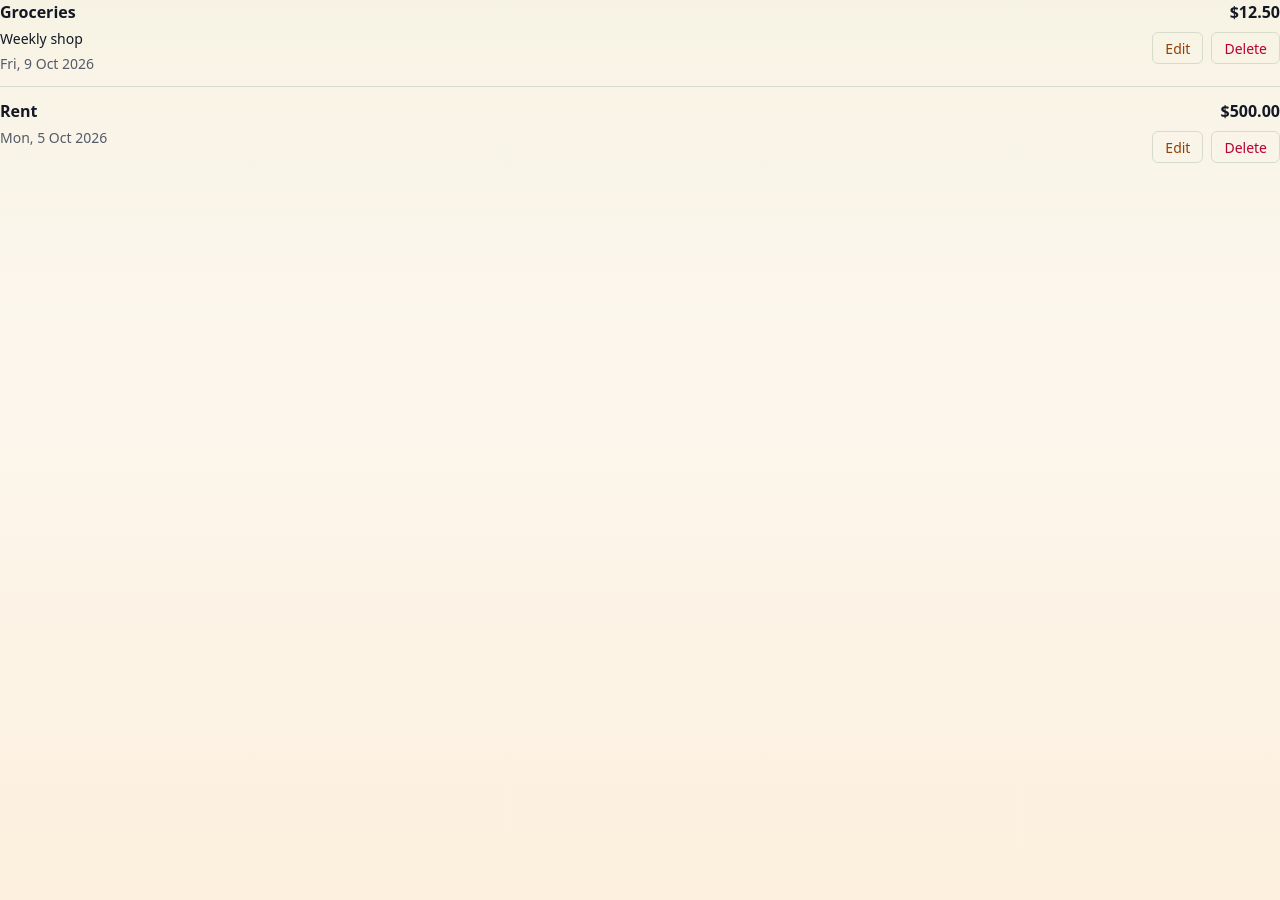
editing a transaction › re-sorts the list when the date changes
Click the button with aria-label "Edit Rent": x=1178, y=147 left=1152, top=131, right=1204, bottom=163
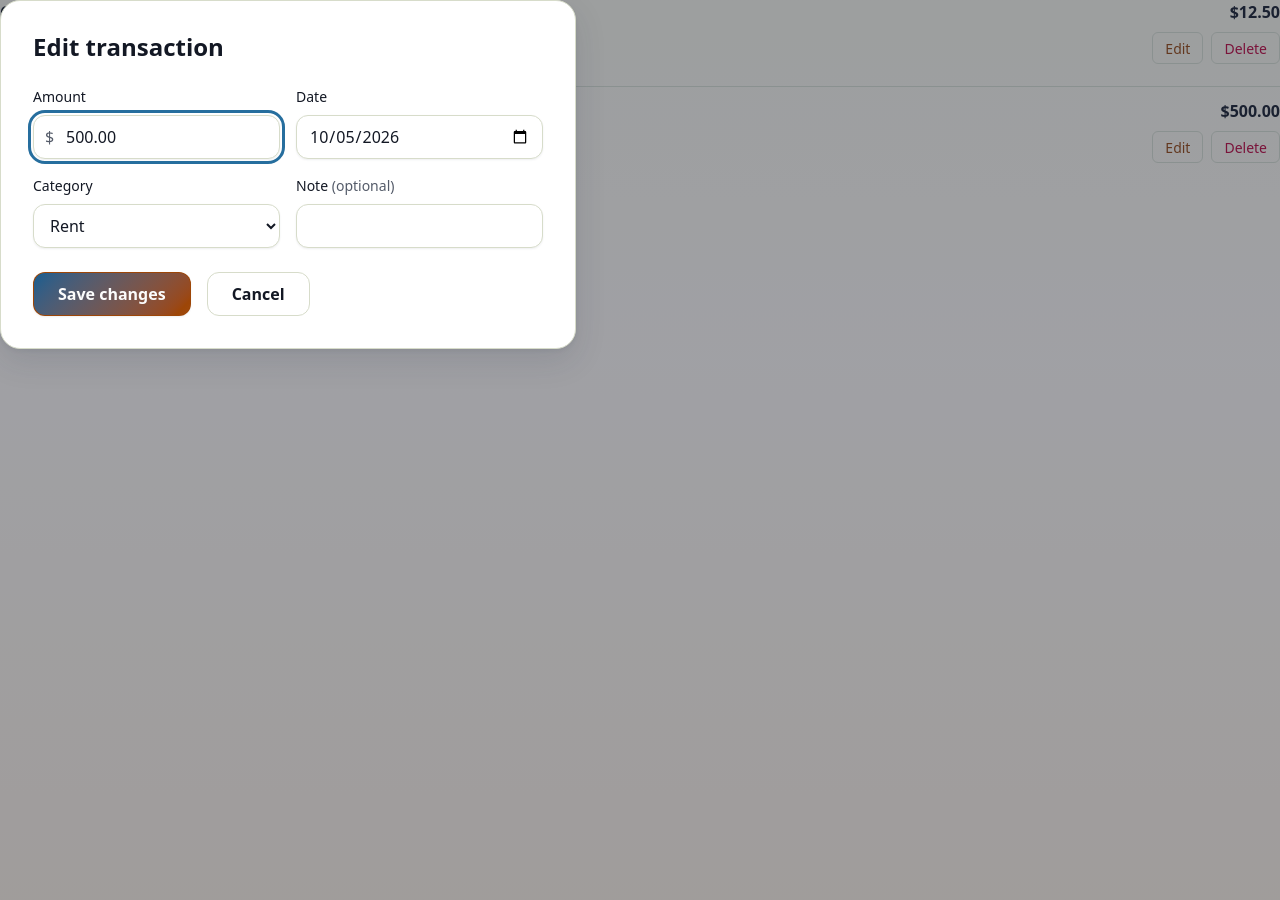
In the date field labelled "Date": x=420, y=137 left=296, top=115, right=543, bottom=159, type "2026-10-20"
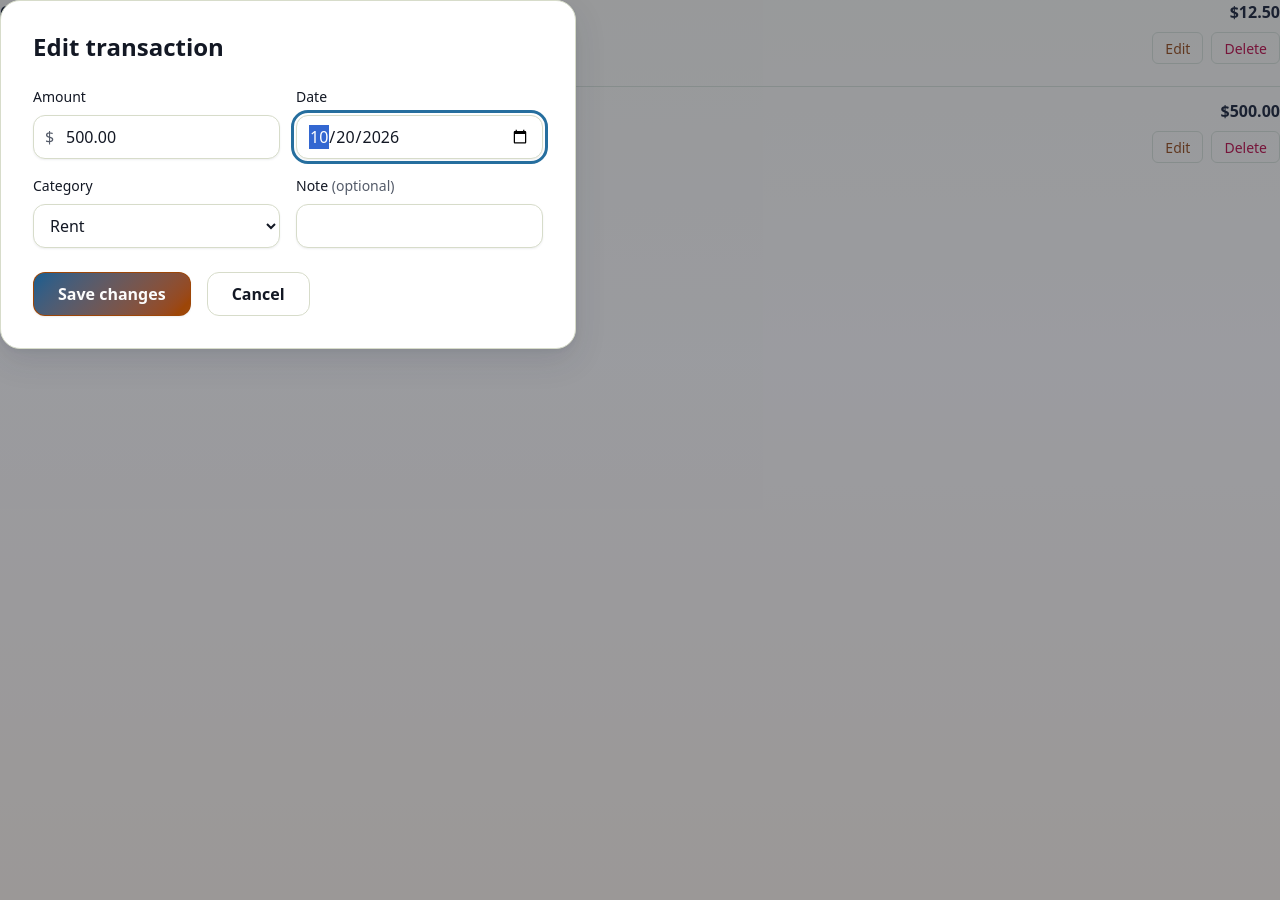
Click the button "Save changes": x=112, y=294 left=33, top=272, right=191, bottom=316
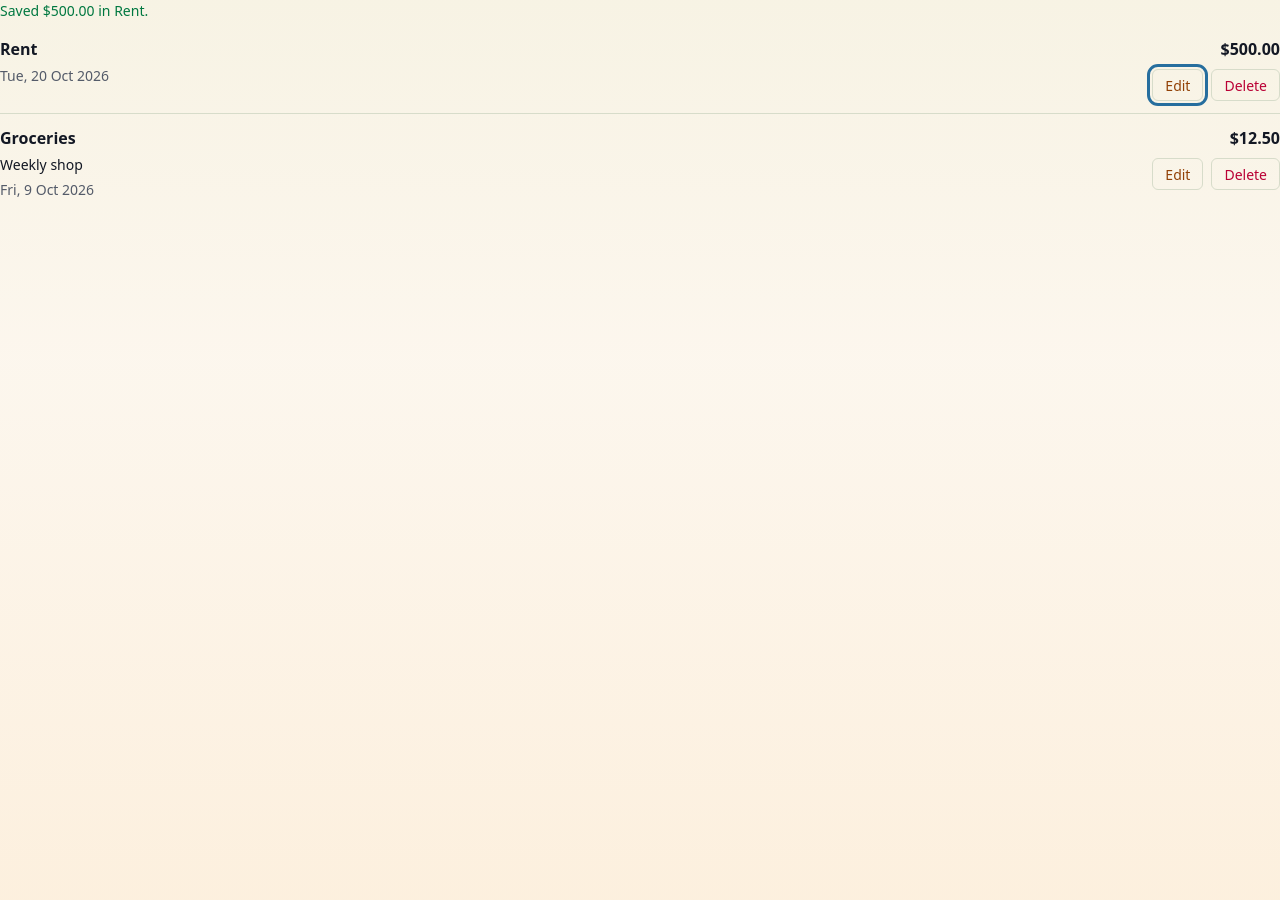
Now the list item "Rent Tue, 20 Oct 2026 $500.00 Edit Delete" is shown, box left=0, top=37, right=1279, bottom=113
